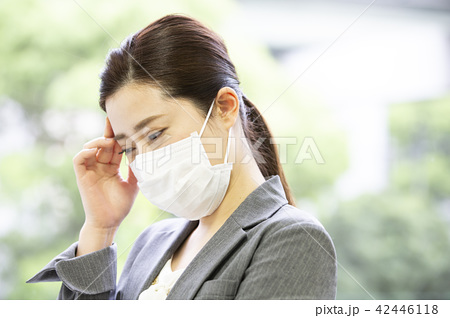mask: (125, 144, 240, 218)
